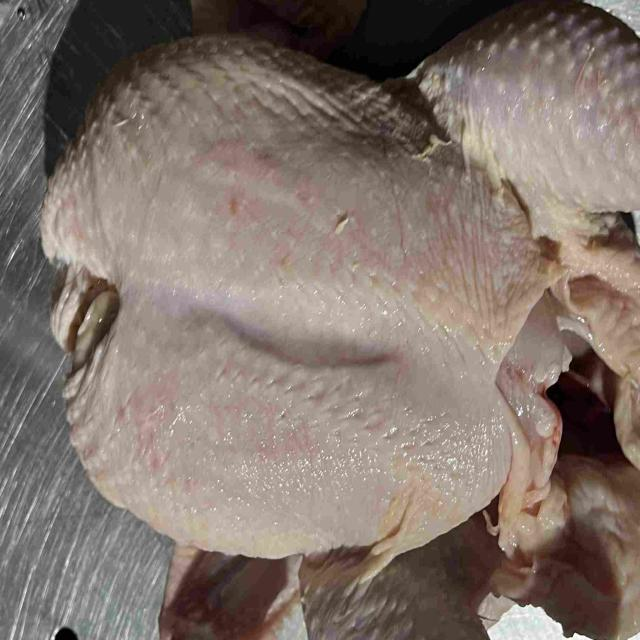breast: (41, 36, 568, 560)
leg: (406, 1, 640, 245), (303, 525, 490, 640)
wing: (158, 546, 300, 640)
